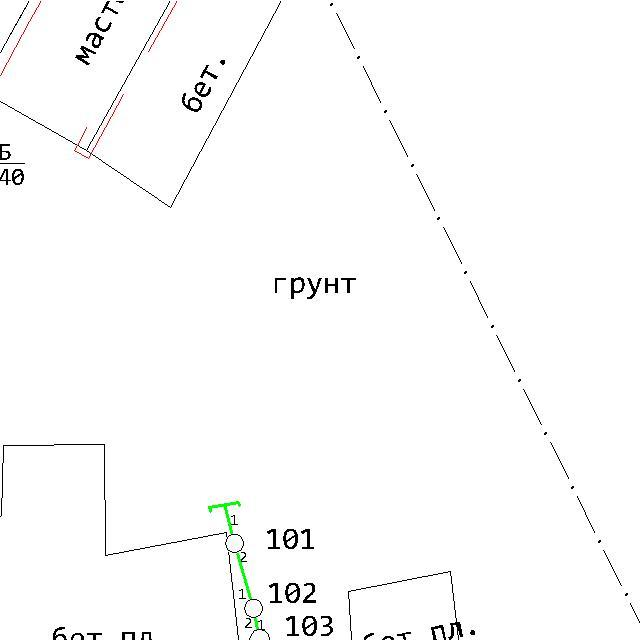well: (242, 596, 266, 620), (224, 532, 246, 556)
